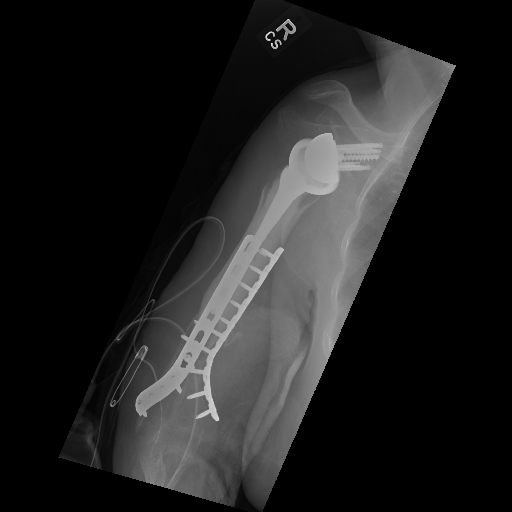implant: (132, 230, 289, 421), (290, 132, 384, 194)
